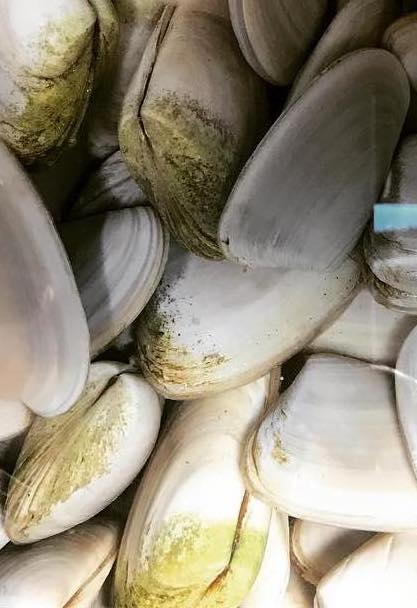tuatua: (219, 43, 410, 272), (120, 364, 277, 608), (136, 240, 364, 401), (242, 347, 417, 537), (3, 359, 163, 550), (122, 1, 233, 266), (1, 147, 95, 422), (1, 1, 123, 161), (60, 199, 171, 353), (4, 519, 120, 608), (232, 1, 321, 82)
